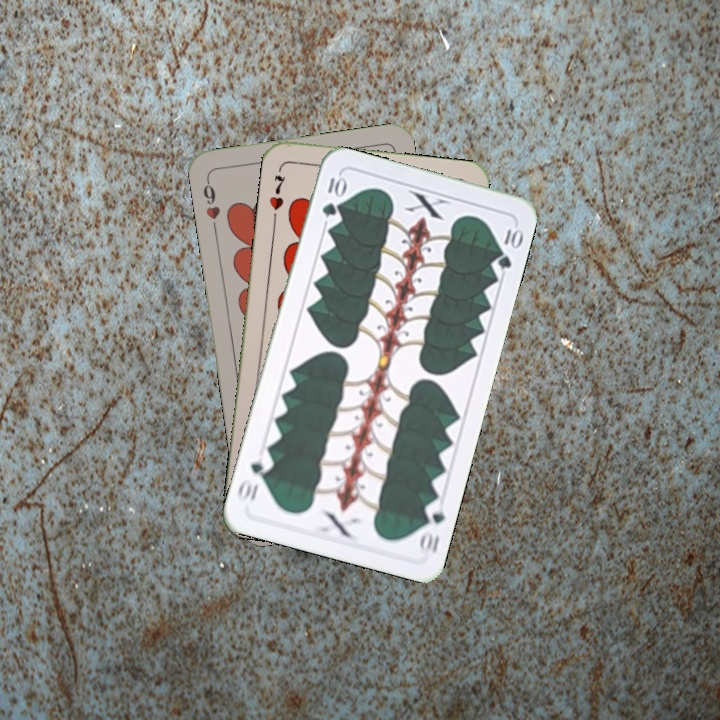G10: (415, 497, 448, 557), (318, 171, 347, 220)
H7: (265, 171, 288, 213)
H9: (199, 175, 223, 234)
